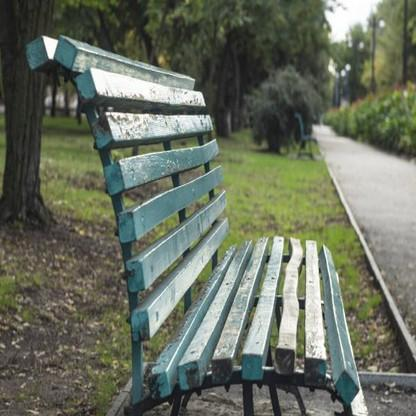obstacle: (13, 23, 370, 409)
